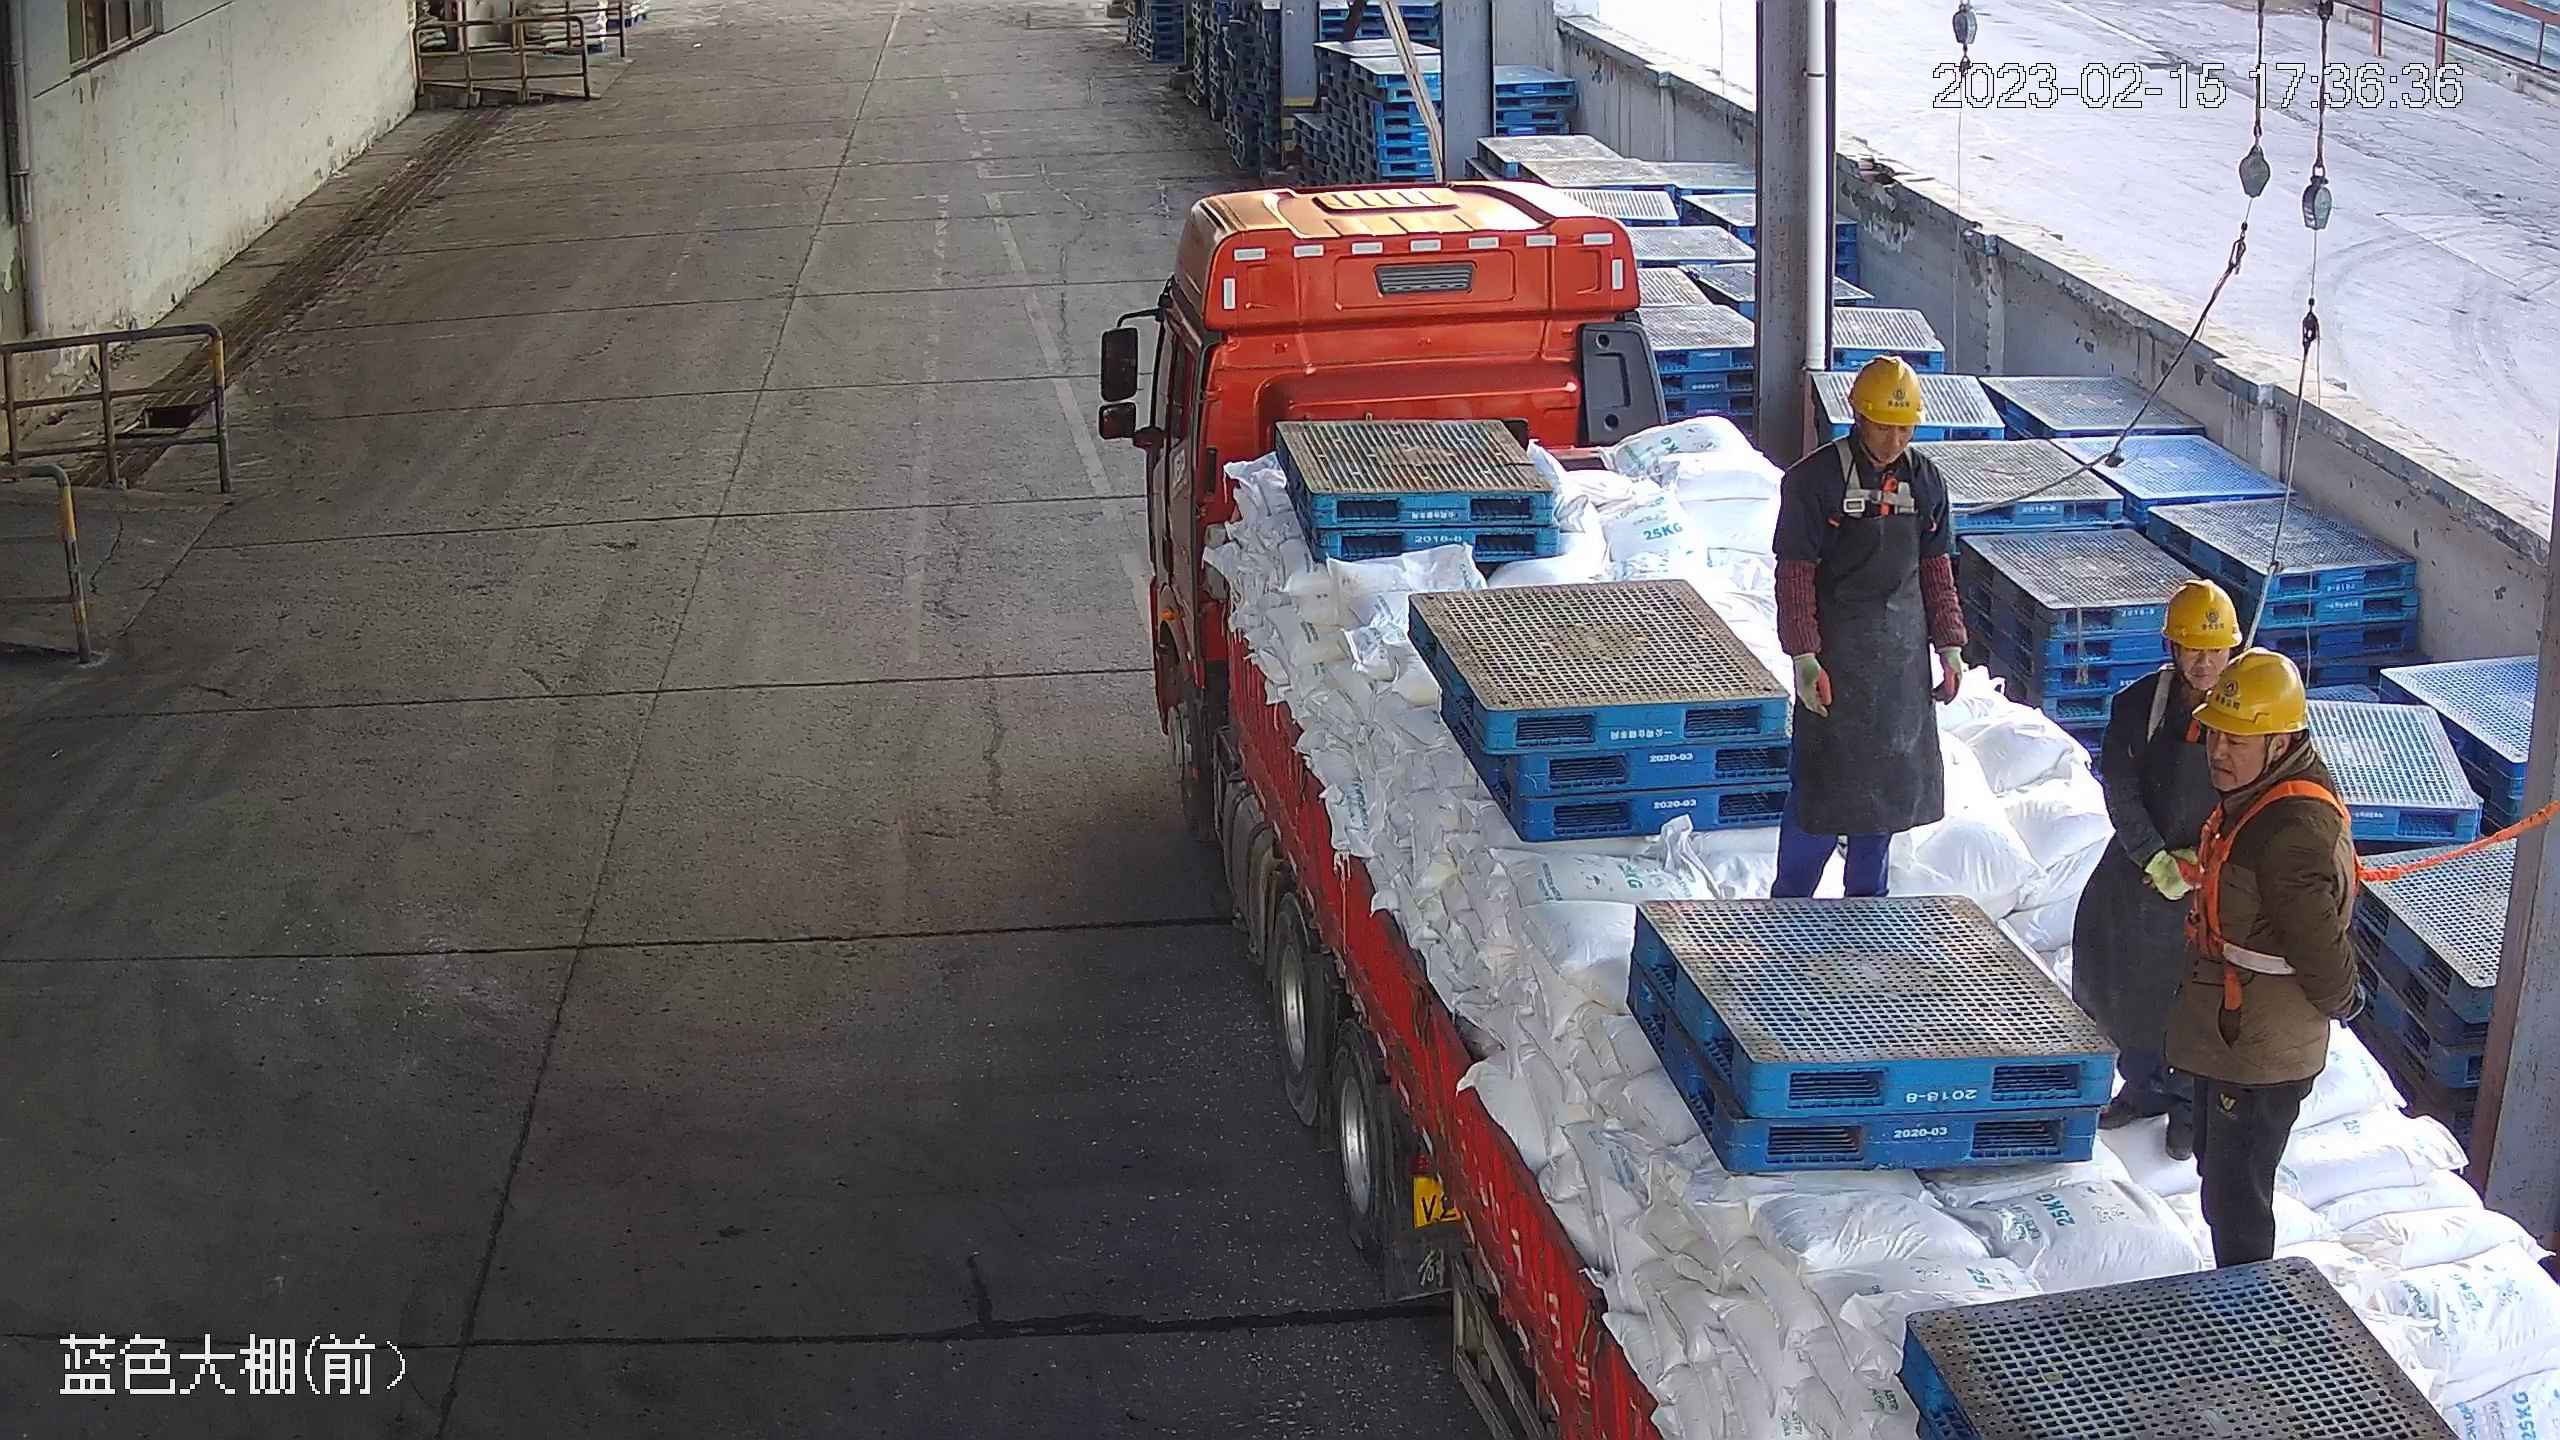belt: (2181, 780, 2379, 973), (1834, 435, 1918, 518)
head: (2187, 647, 2357, 859), (1782, 356, 1947, 526), (2103, 581, 2247, 748)
helmet: (2192, 647, 2309, 735), (2160, 579, 2240, 650), (1848, 354, 1925, 424)
people: (2162, 652, 2365, 1270), (1770, 355, 1968, 898), (2069, 580, 2245, 1160)
truck: (1099, 180, 2560, 1440)
